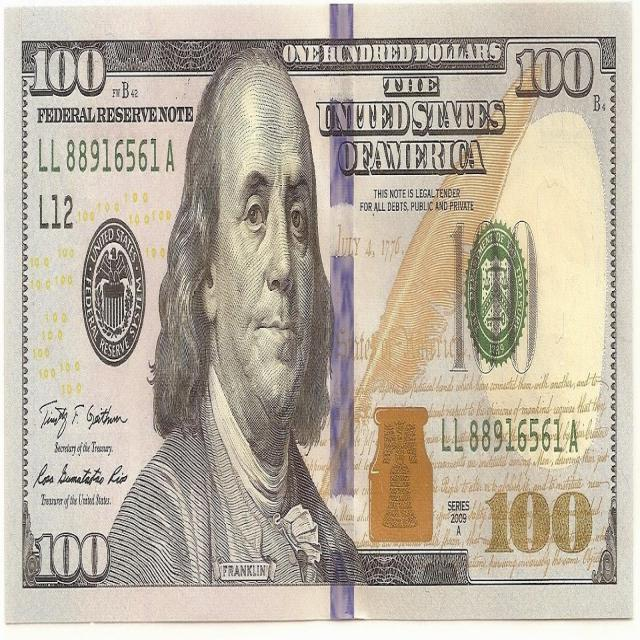100-Front: (4, 10, 633, 621)
